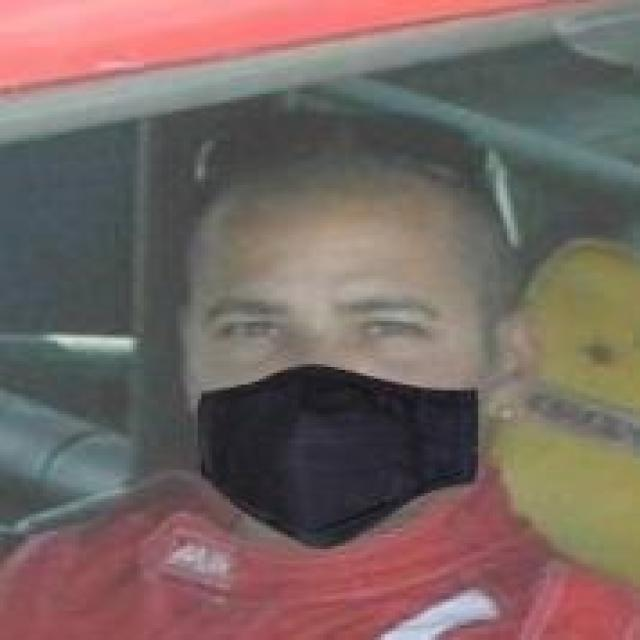mask: (169, 135, 575, 549)
